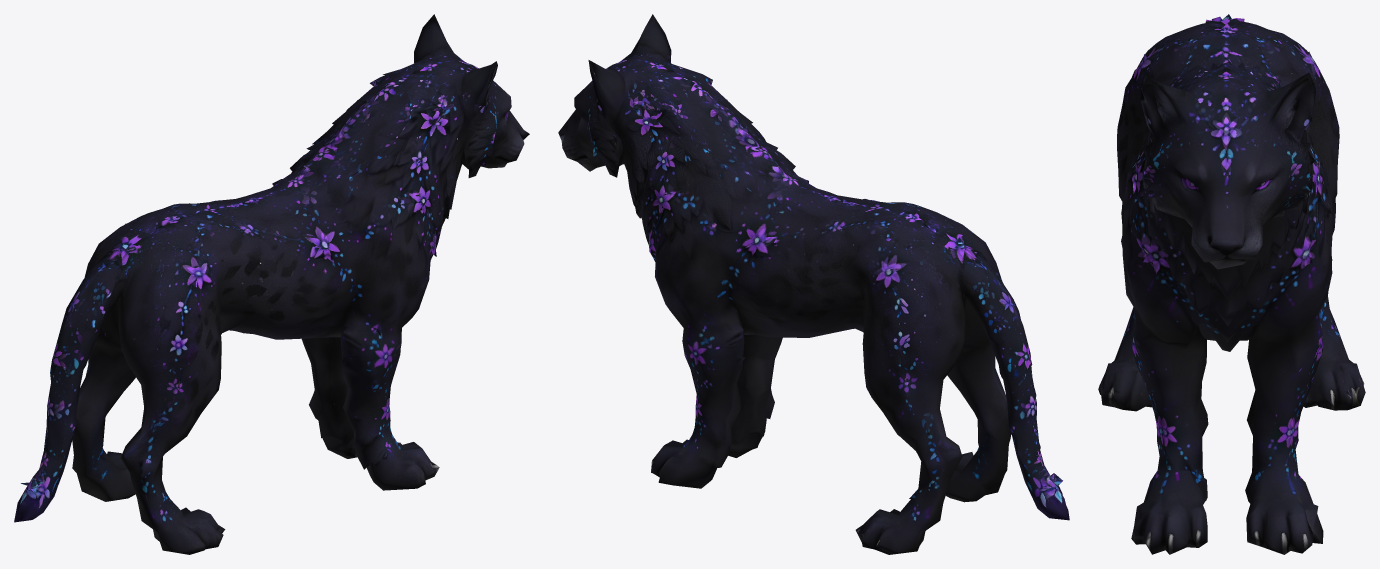
File: panther-wolf.fbx
The picture shows the model from 3 angles, left to right: view 1: azimuth 30°, elevation 25°; view 2: azimuth 150°, elevation 25°; view 3: azimuth 270°, elevation 25°; orthographic projection. The views are drawn at different scales.
Visible parts, largest first — view 1: tripo_node_4e80d183; view 2: tripo_node_4e80d183; view 3: tripo_node_4e80d183.
Part boxes in pixels (left/top/right/bottom): tripo_node_4e80d183: left=14, top=14, right=529, bottom=554; tripo_node_4e80d183: left=558, top=14, right=1069, bottom=554; tripo_node_4e80d183: left=1098, top=14, right=1365, bottom=554.
Bounding box in the file's own units: 0.9791 × 0.7471 × 0.3453.
